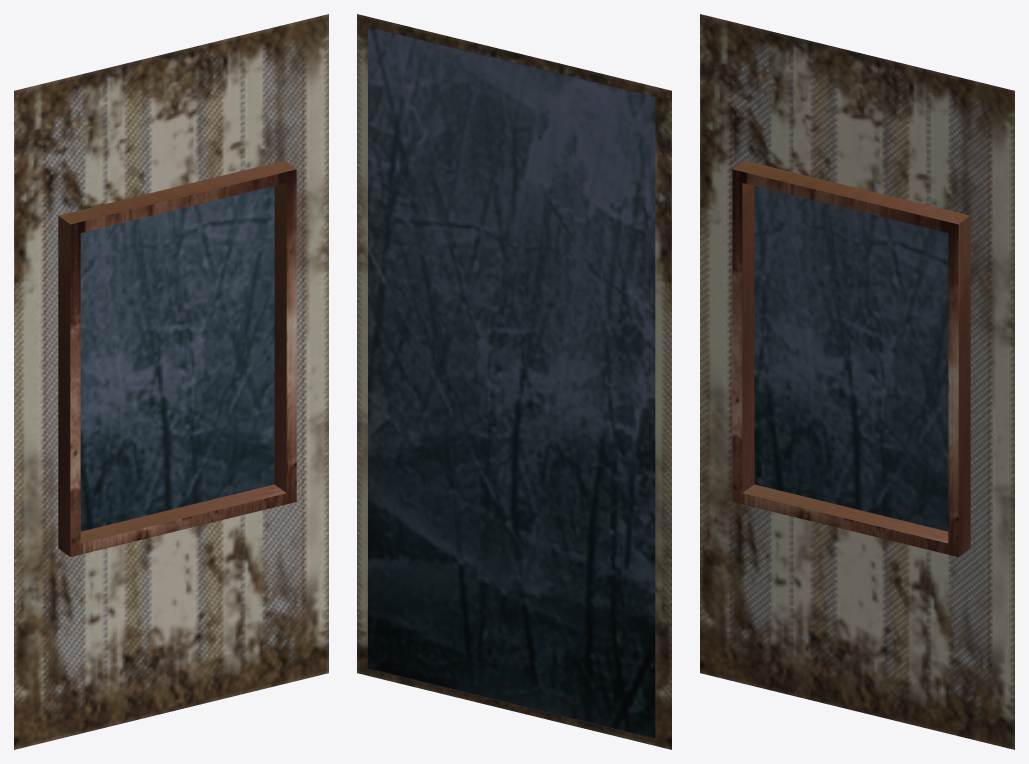
Rendered from wall_white_window_2.obj.
The picture shows the model from 3 angles, left to right: view 1: azimuth 30°, elevation 25°; view 2: azimuth 150°, elevation 25°; view 3: azimuth 330°, elevation 25°; orthographic projection.
Visible parts, largest first — view 1: Wall_Window_3x1.5_01; view 2: Wall_Window_3x1.5_01; view 3: Wall_Window_3x1.5_01.
Boxes of the visible parts, x1,y1,x2,y2 form: Wall_Window_3x1.5_01: (14, 14, 328, 749); Wall_Window_3x1.5_01: (357, 14, 671, 749); Wall_Window_3x1.5_01: (700, 14, 1014, 749).
Size of the model in its own units: 1.5 by 3 by 0.1162.
Materials: 3 (3 with a texture image).
